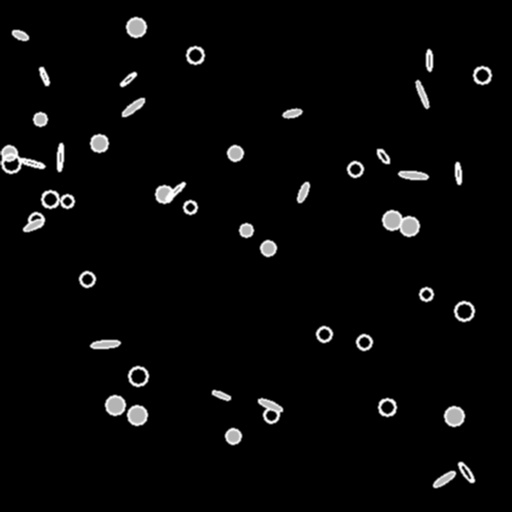pseudomonas: (121, 97, 145, 117), (414, 80, 430, 108), (164, 181, 186, 201), (432, 470, 456, 488), (257, 397, 283, 413), (457, 461, 475, 483), (296, 181, 310, 203), (119, 71, 137, 87), (20, 157, 44, 169), (399, 170, 427, 180), (23, 218, 43, 232), (38, 66, 50, 86), (90, 340, 120, 348), (282, 107, 302, 119), (376, 148, 390, 164), (11, 29, 29, 41), (212, 389, 230, 401), (57, 143, 63, 171), (426, 49, 432, 71), (455, 162, 461, 184)
synechocystis: (445, 407, 463, 425), (106, 396, 124, 414), (127, 18, 145, 36), (128, 406, 146, 424), (400, 217, 418, 235), (2, 154, 20, 172), (129, 367, 147, 385), (455, 302, 473, 320), (383, 211, 401, 229), (474, 67, 490, 83), (187, 47, 203, 63), (379, 399, 395, 415), (42, 191, 58, 207), (156, 186, 172, 202), (91, 135, 107, 151), (264, 408, 278, 422), (348, 162, 362, 176), (80, 272, 94, 286), (226, 429, 240, 443), (2, 146, 16, 160), (317, 327, 331, 341), (357, 335, 371, 349), (228, 146, 242, 160), (261, 241, 275, 255), (29, 213, 43, 227), (61, 195, 73, 207), (420, 288, 432, 300), (240, 224, 252, 236), (184, 201, 196, 213), (34, 113, 46, 125)
